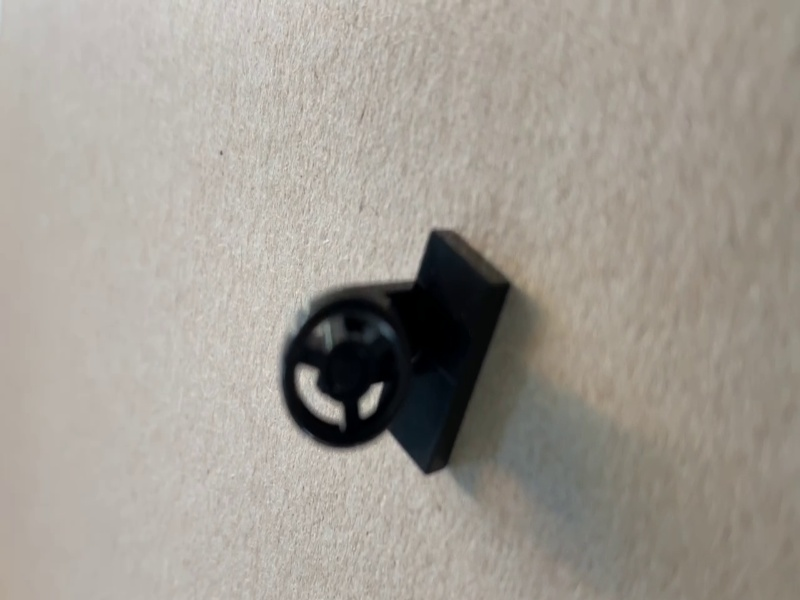steering wheel: (281, 227, 513, 477)
